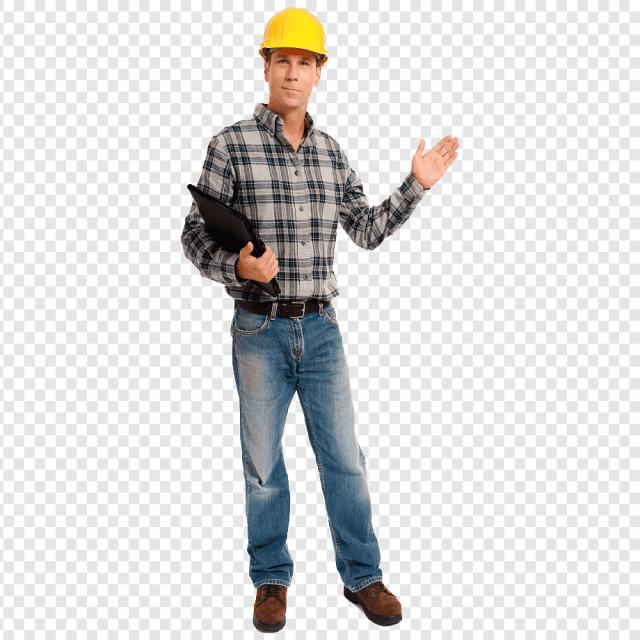Safety-Helmet: (258, 5, 329, 58)
